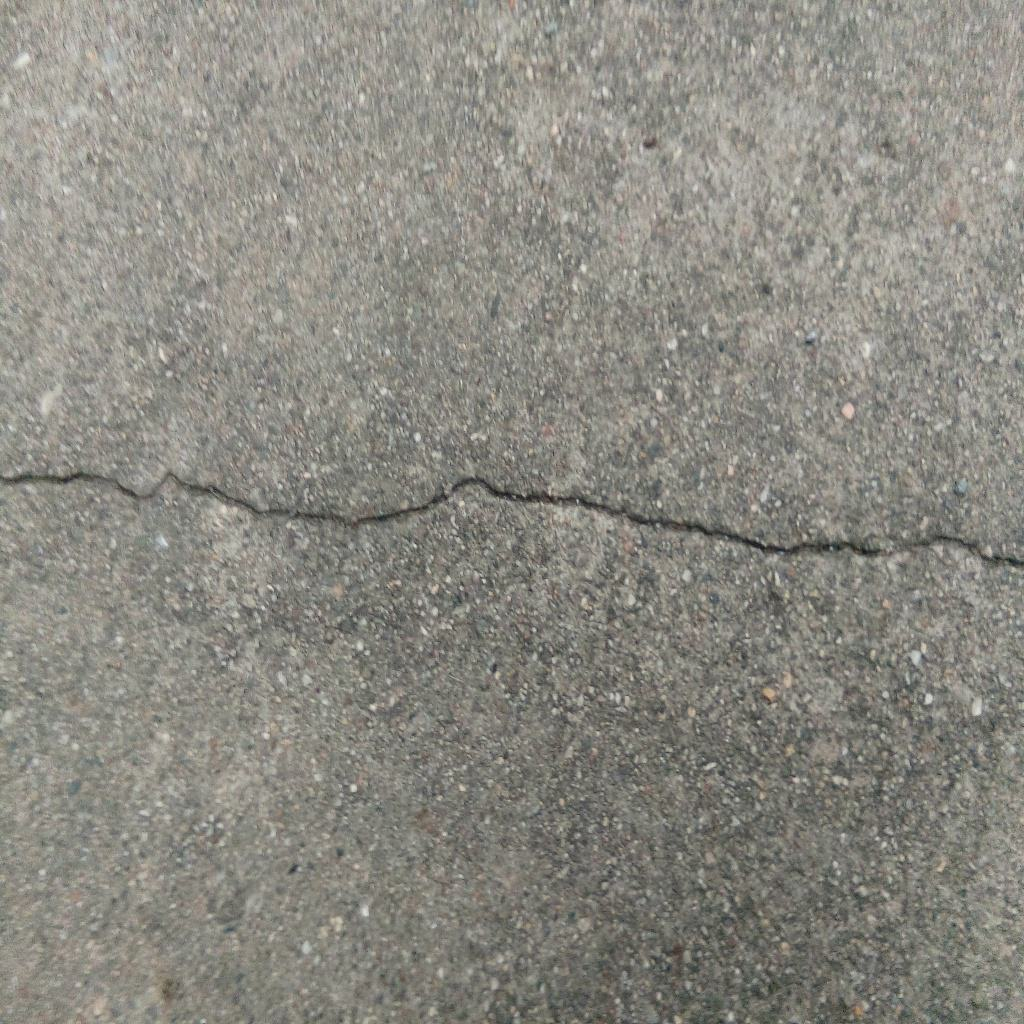Crack: (1, 464, 1024, 572)
